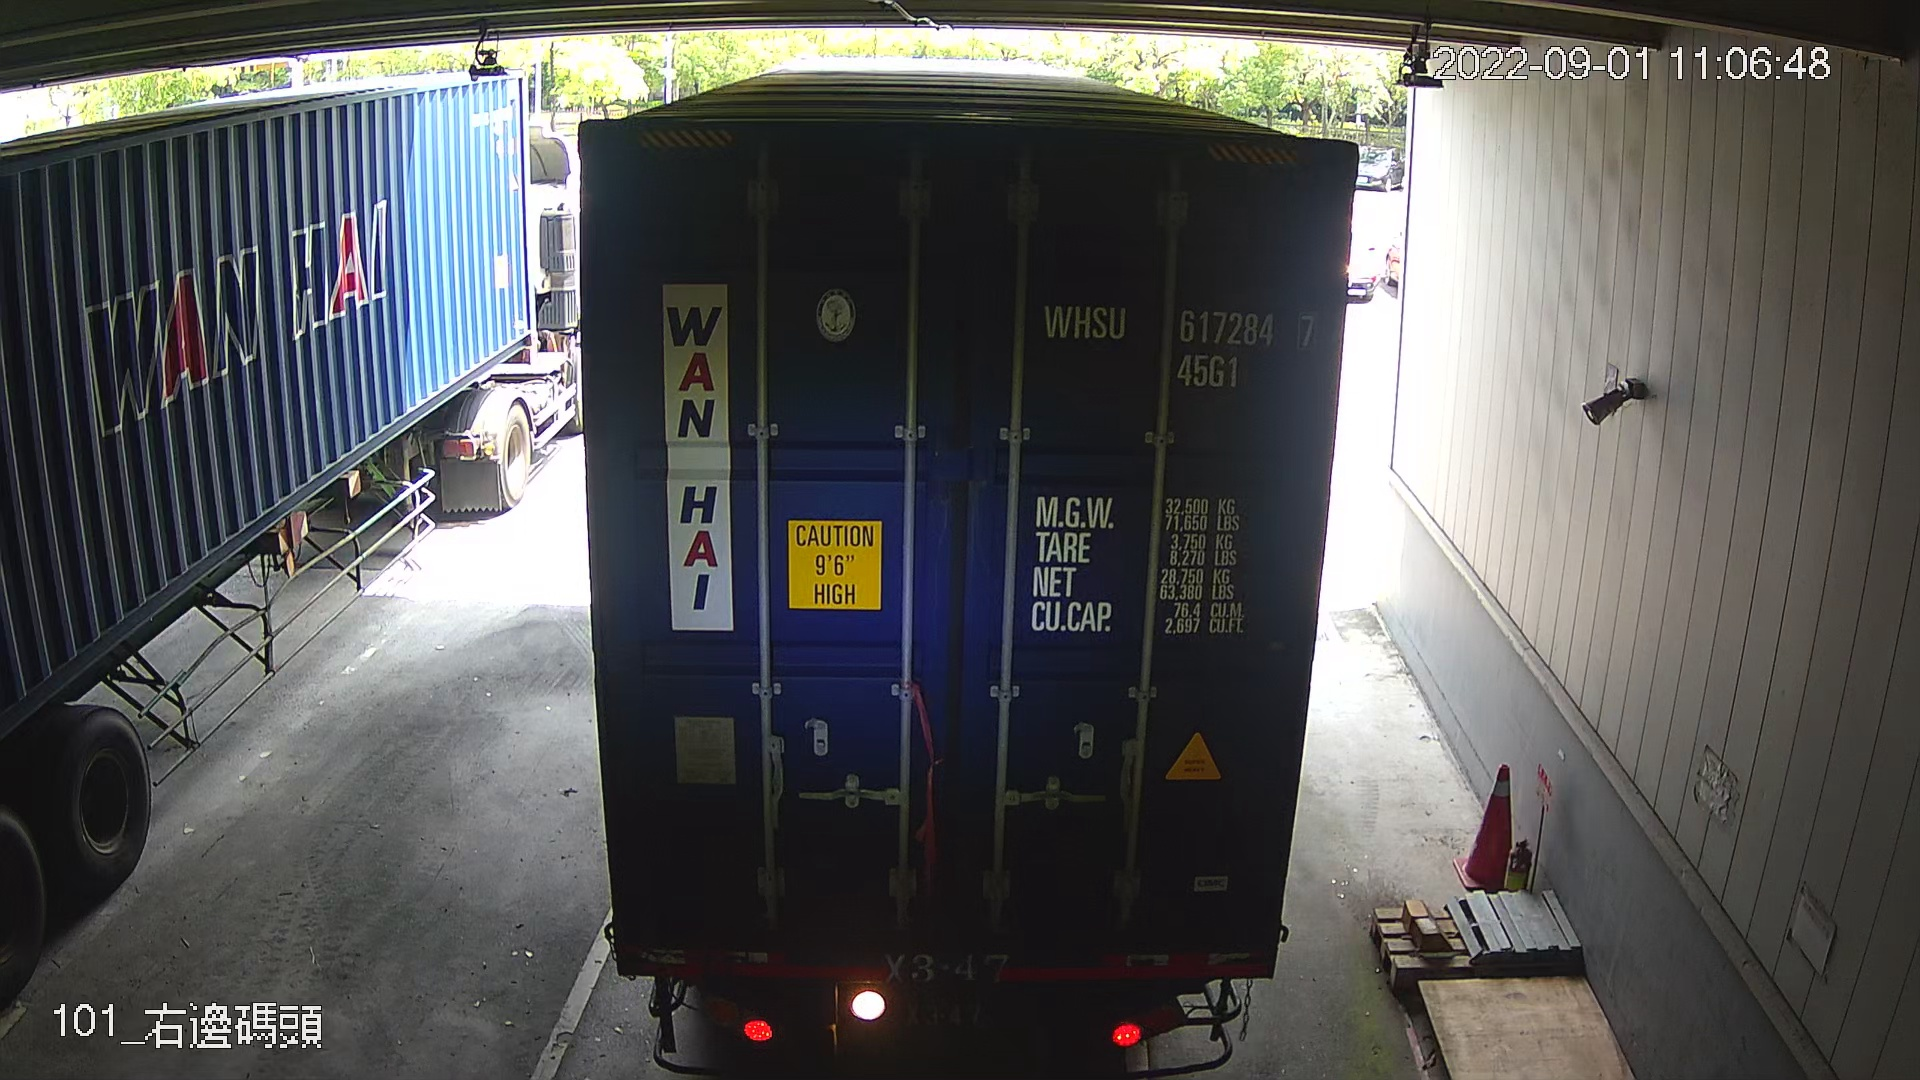container: (1036, 291, 1332, 402)
